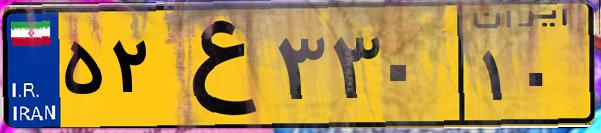0: (385, 28, 445, 110), (525, 38, 570, 115)
1: (475, 38, 525, 113)
2: (110, 28, 158, 98)
3: (270, 28, 330, 110), (330, 28, 385, 110)
5: (57, 26, 110, 100)
ع: (158, 12, 270, 120)
